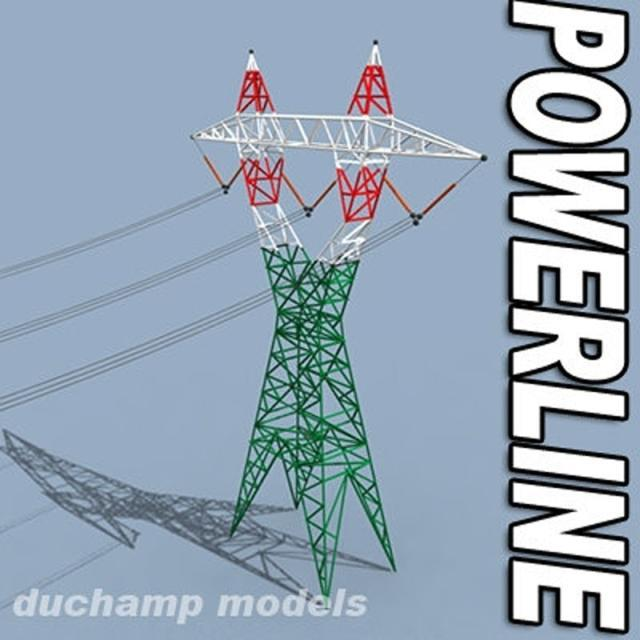non-critical vegetation: (198, 48, 452, 582)
